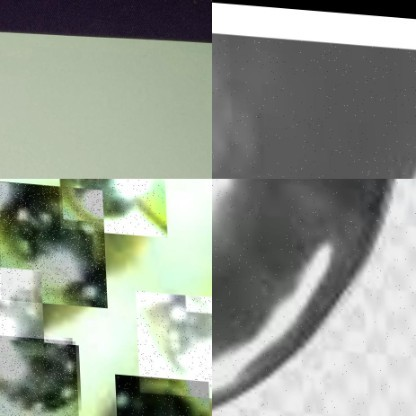ironball: (212, 178, 415, 415), (212, 25, 415, 178), (0, 178, 105, 303), (133, 286, 212, 395), (0, 332, 75, 415), (54, 178, 166, 231), (111, 369, 208, 415), (0, 261, 41, 352)
